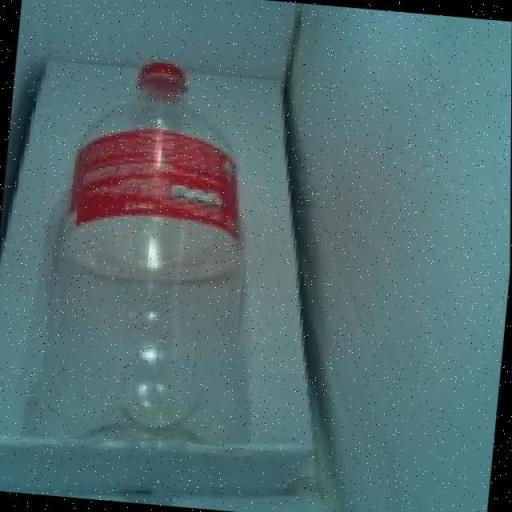plastic: (20, 46, 306, 475)
